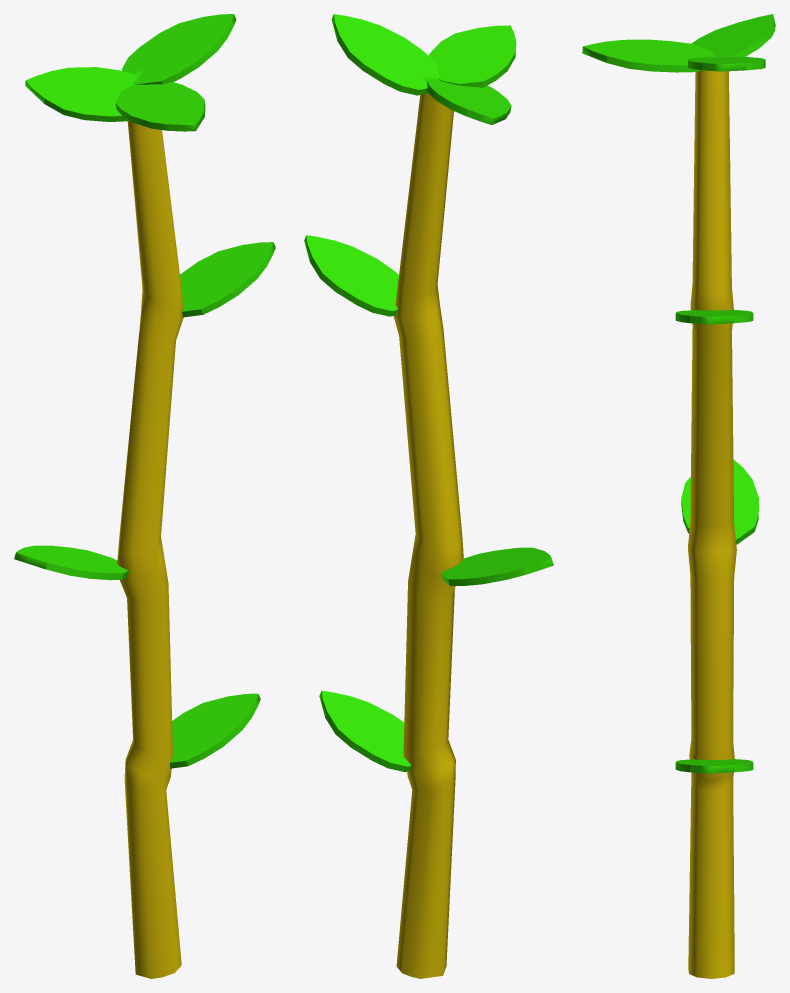
The model's file is FixedBamboo.fbx.
The picture shows the model from 3 angles, left to right: view 1: azimuth 30°, elevation 25°; view 2: azimuth 150°, elevation 25°; view 3: azimuth 270°, elevation 25°; orthographic projection.
Visible parts, largest first — view 1: polySurface10; view 2: polySurface10; view 3: polySurface10.
Part boxes in pixels (x1,y1,x2,y2): polySurface10: [14, 14, 275, 978]; polySurface10: [304, 14, 553, 978]; polySurface10: [582, 14, 775, 978].
Bounding box in the file's own units: 4.78 × 16.75 × 3.08.
